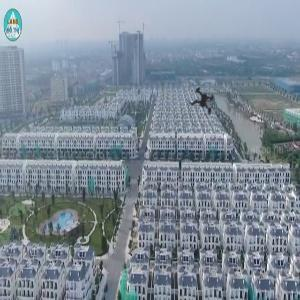drone: (161, 62, 244, 145)
